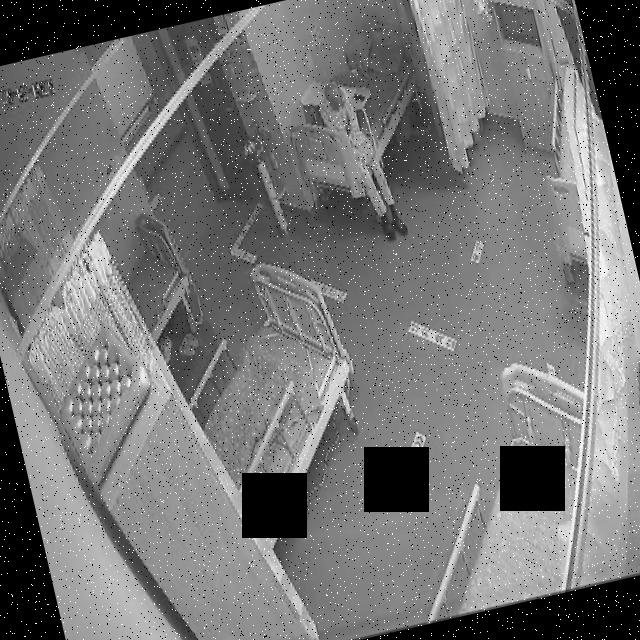bed: (375, 346, 627, 624), (170, 251, 382, 552), (272, 18, 442, 208), (111, 208, 203, 346)
patient: (310, 71, 410, 251)
sit: (309, 71, 412, 251)
